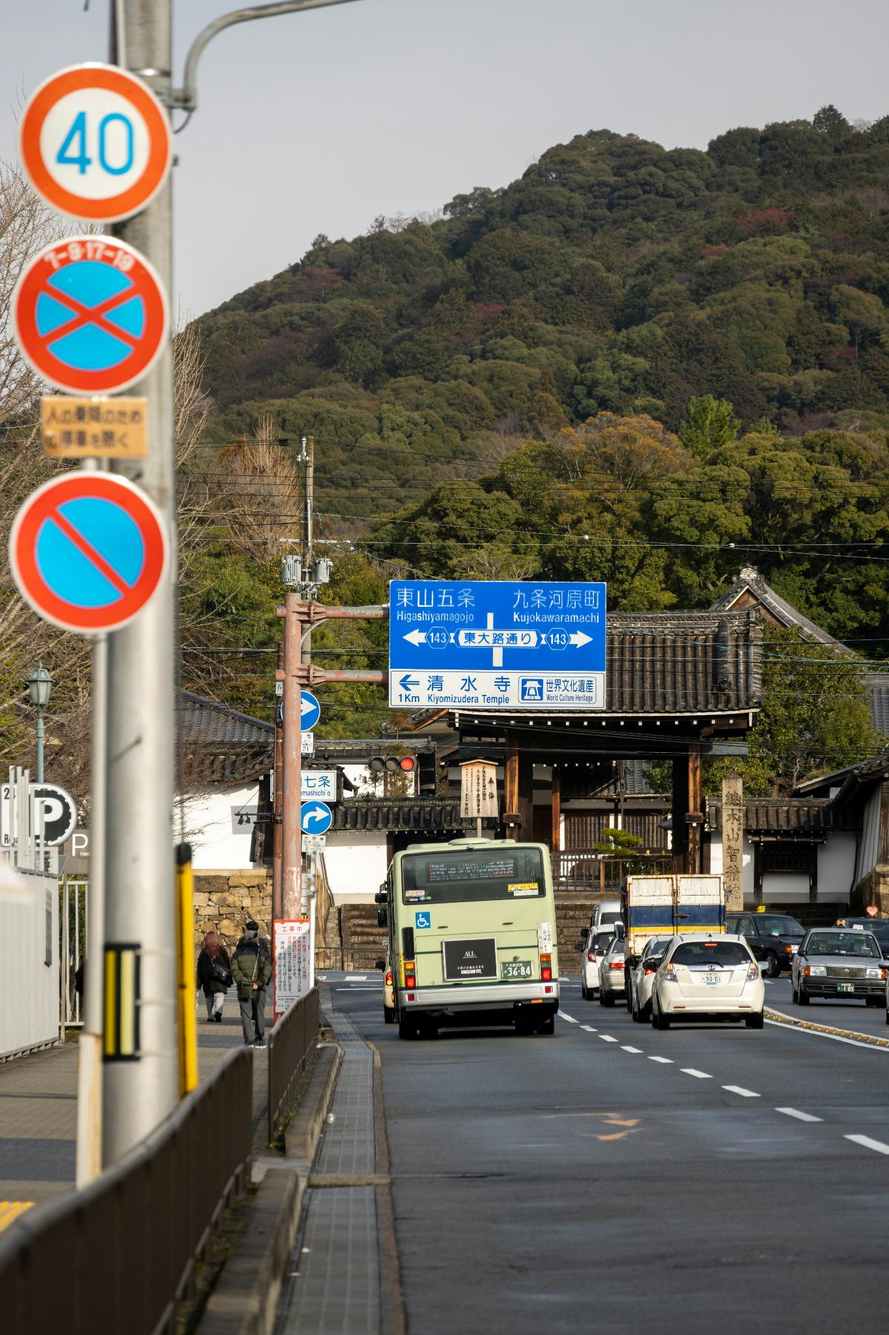stop_sign: (13, 233, 178, 398)
